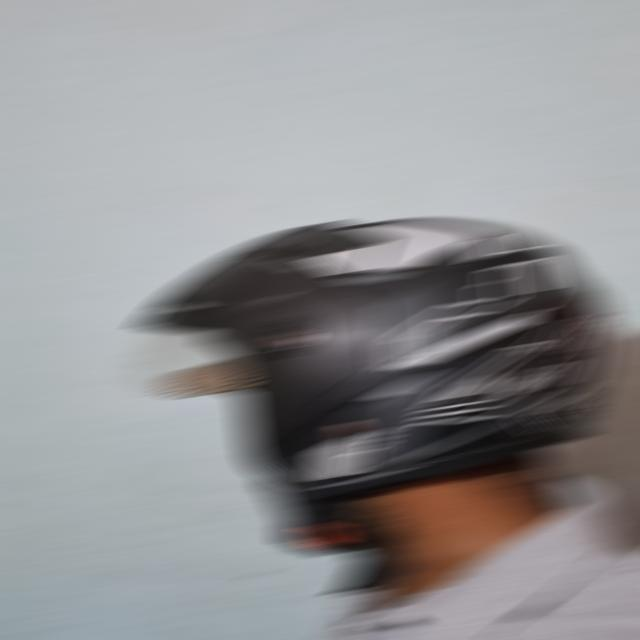With Helmet: (117, 215, 618, 496)
